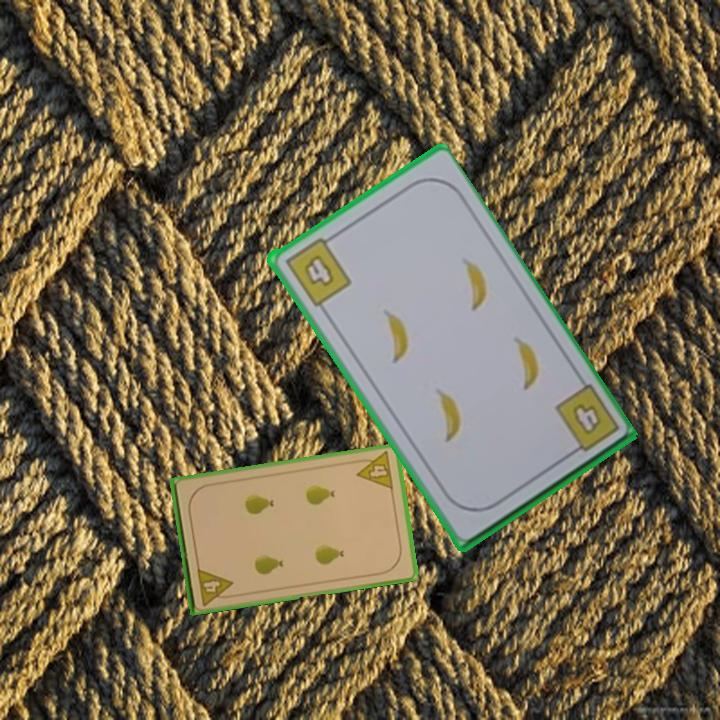4b: (280, 231, 354, 309), (568, 399, 604, 439)
4p: (352, 448, 397, 492), (194, 564, 237, 608)
